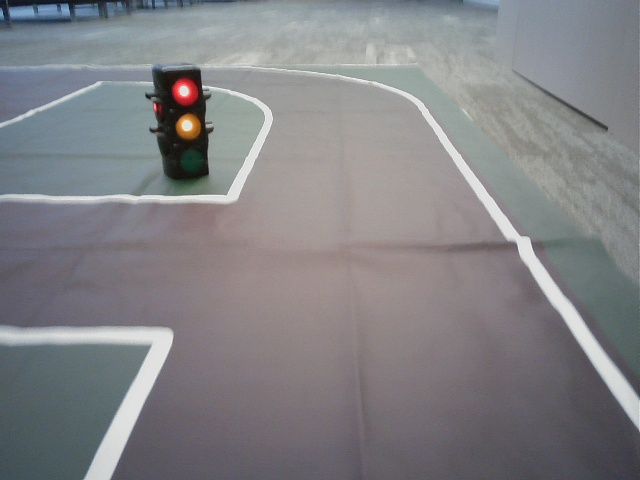red: (168, 73, 205, 178)
